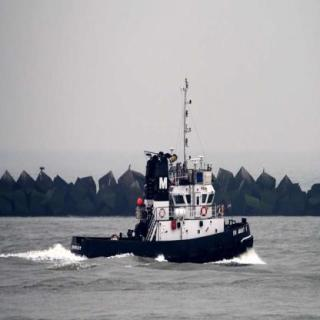Tug Boat: (98, 72, 251, 260)
